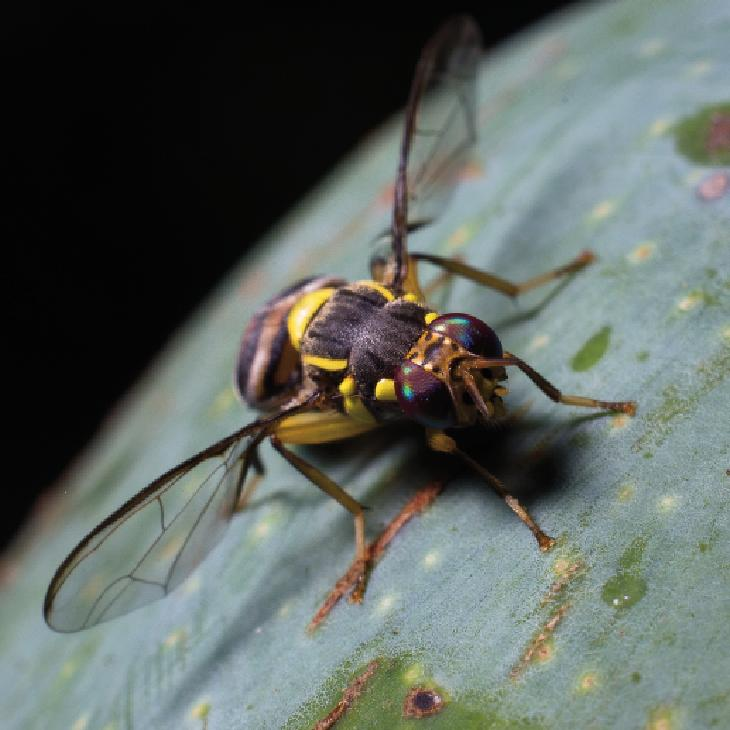Fruit fly: (141, 208, 618, 603)
